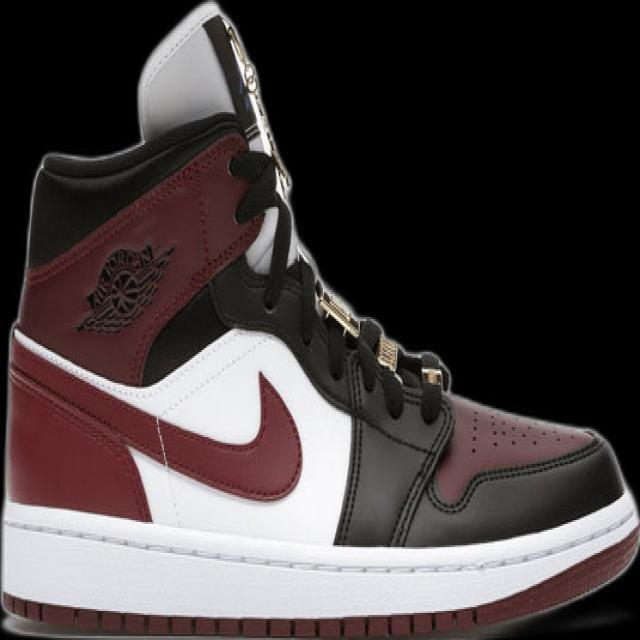J1_InsoleChar: (0, 1, 638, 638)
J1_ShoeLogo: (73, 241, 176, 335)
J1_StitchPattern: (215, 11, 449, 425), (2, 506, 638, 581), (386, 401, 603, 546), (333, 316, 455, 547), (218, 12, 302, 304), (2, 594, 478, 638), (309, 280, 450, 423), (429, 431, 605, 515), (386, 396, 456, 548), (333, 345, 368, 546), (465, 405, 577, 456), (466, 406, 482, 455)
